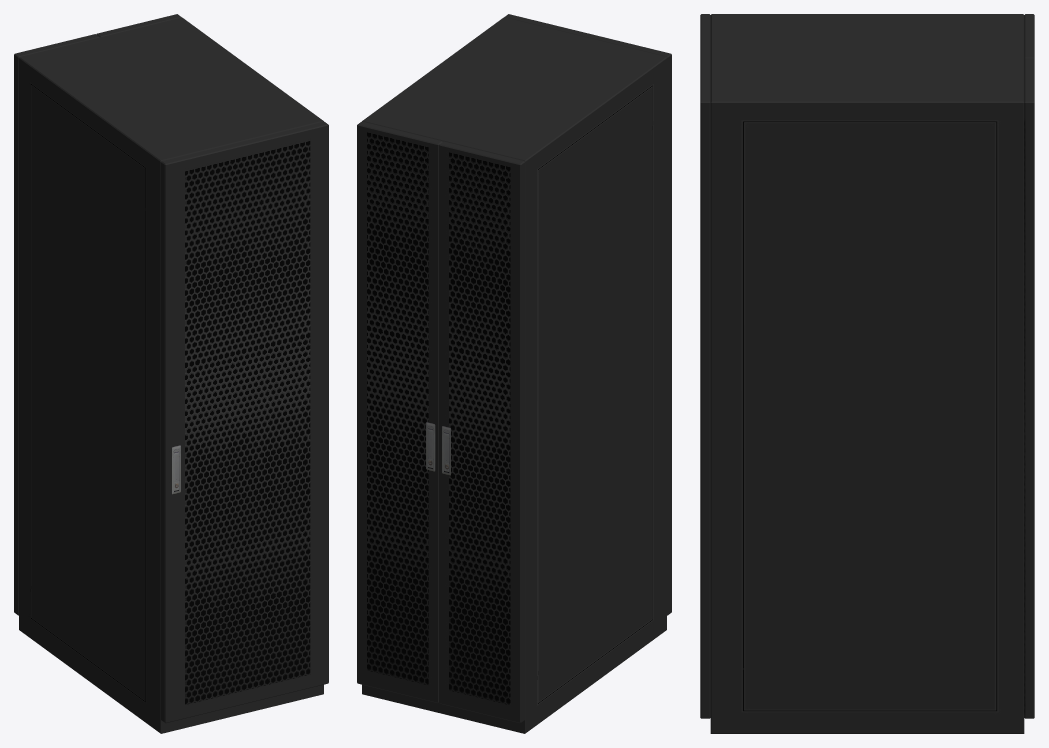
Rendered from rack.glb.
The picture shows the model from 3 angles, left to right: view 1: azimuth 30°, elevation 25°; view 2: azimuth 150°, elevation 25°; view 3: azimuth 270°, elevation 25°; orthographic projection. The views are drawn at different scales.
Parts seen in each view (by area): view 1: frame, frontdoor_r, backdoor_l; view 2: frame, backdoor_l, backdoor_r, frontdoor_r; view 3: frame, frontdoor_r, backdoor_r.
Boxes of the visible parts, <box> form: frame: <box>19,17,323,733</box>; frontdoor_r: <box>161,121,328,723</box>; backdoor_l: <box>14,34,99,615</box>; frame: <box>362,17,666,733</box>; backdoor_l: <box>439,141,524,723</box>; backdoor_r: <box>357,121,442,703</box>; frontdoor_r: <box>504,14,671,615</box>; frame: <box>710,14,1024,733</box>; frontdoor_r: <box>700,14,710,718</box>; backdoor_r: <box>1024,58,1034,718</box>.
Size of the model in its own units: 0.6 by 2 by 0.96.
Materials: 3 (3 with a texture image).
